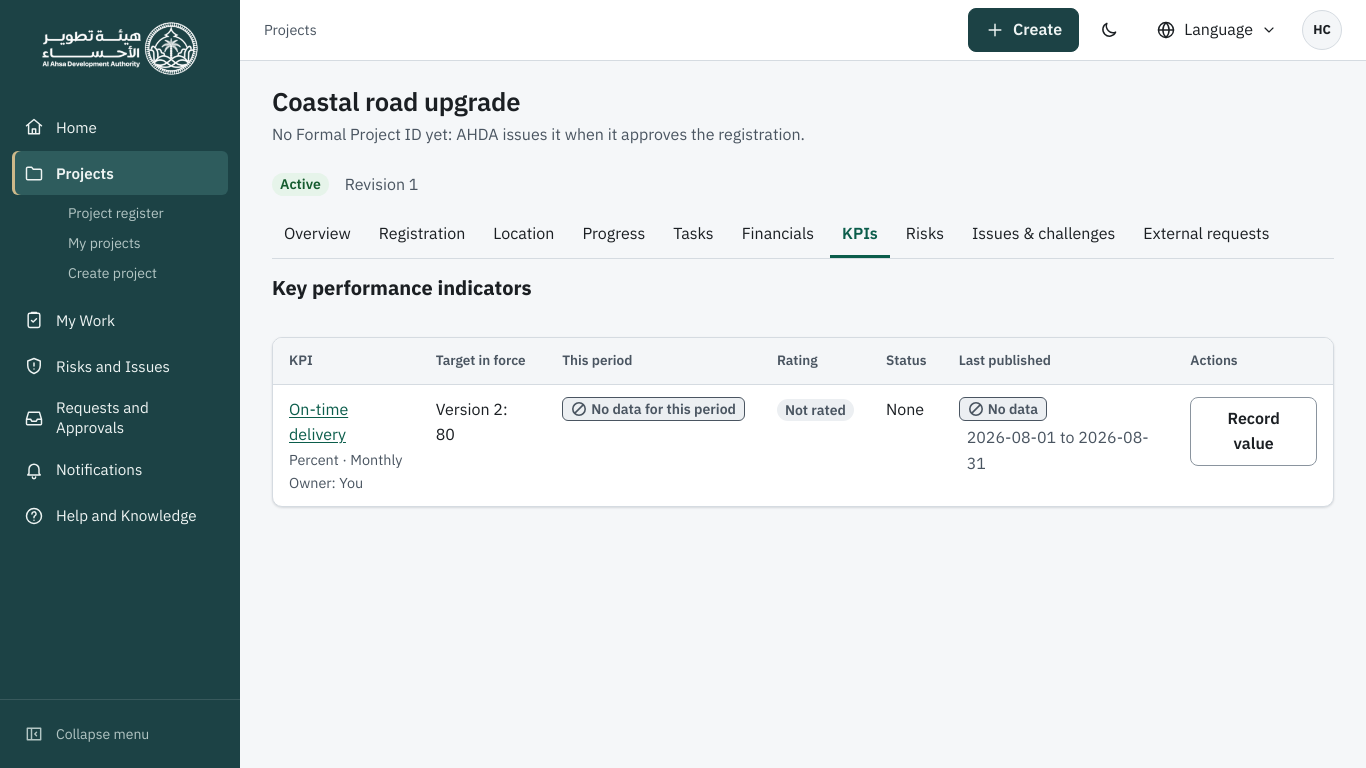
Test: MOD-024 Update KPI Value and publication › a new value is pinned to the target in force; "Not applicable" sends null for this month, then submits
The image size is (1366, 768).
Step 1. Click the button "Record value" → [1254, 431], box [1190,397,1317,466]
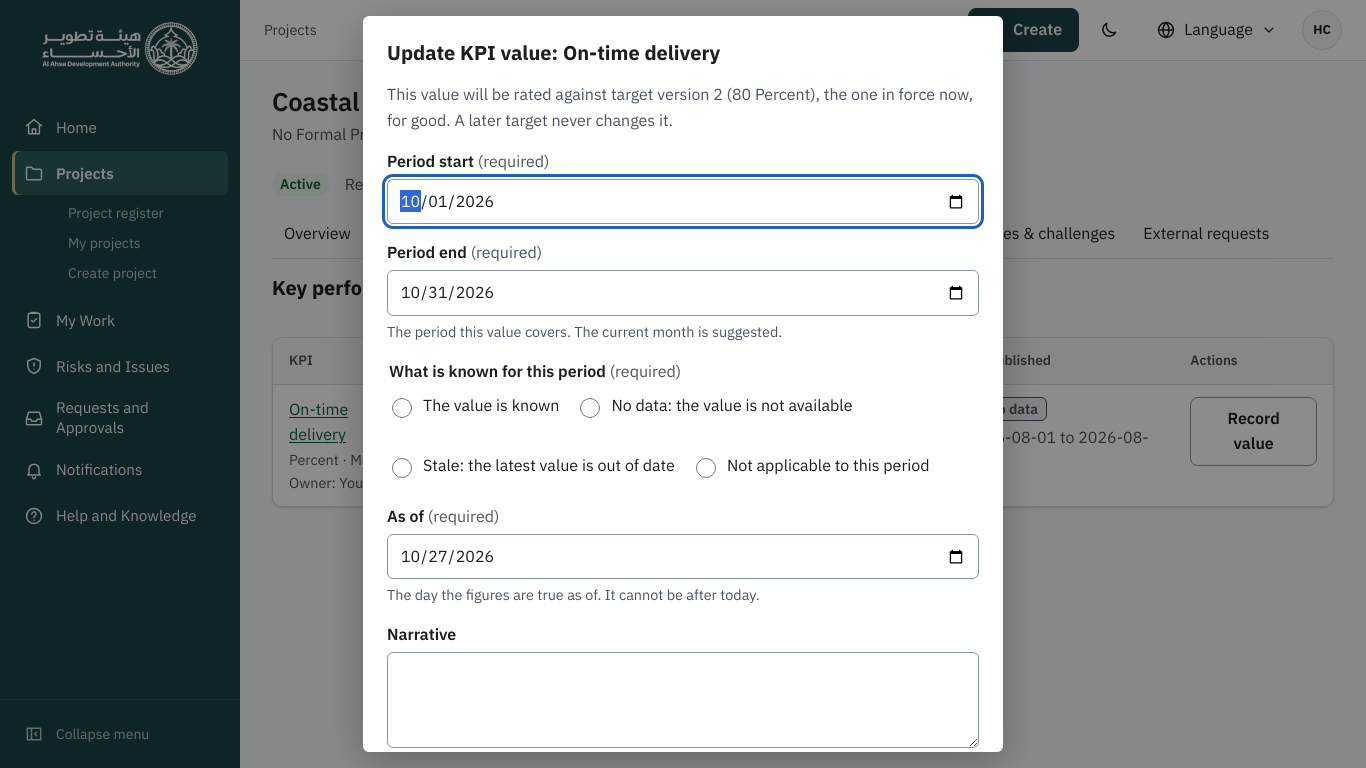
Step 2. Click the radio button labelled "Not applicable to this period" → [706, 468], box [696,458,716,478]
(page scrolled)
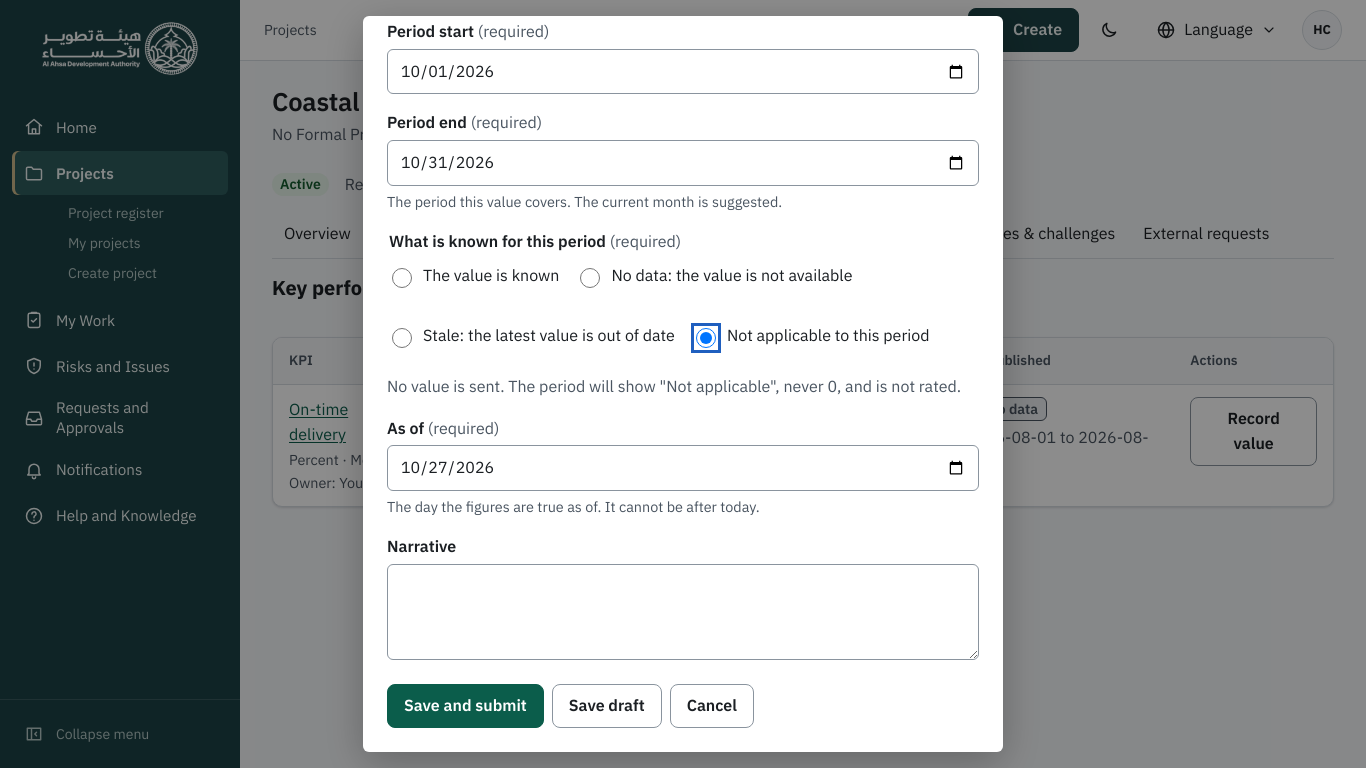
Step 3. Click the button "Save and submit" → [465, 706], box [387,684,544,728]
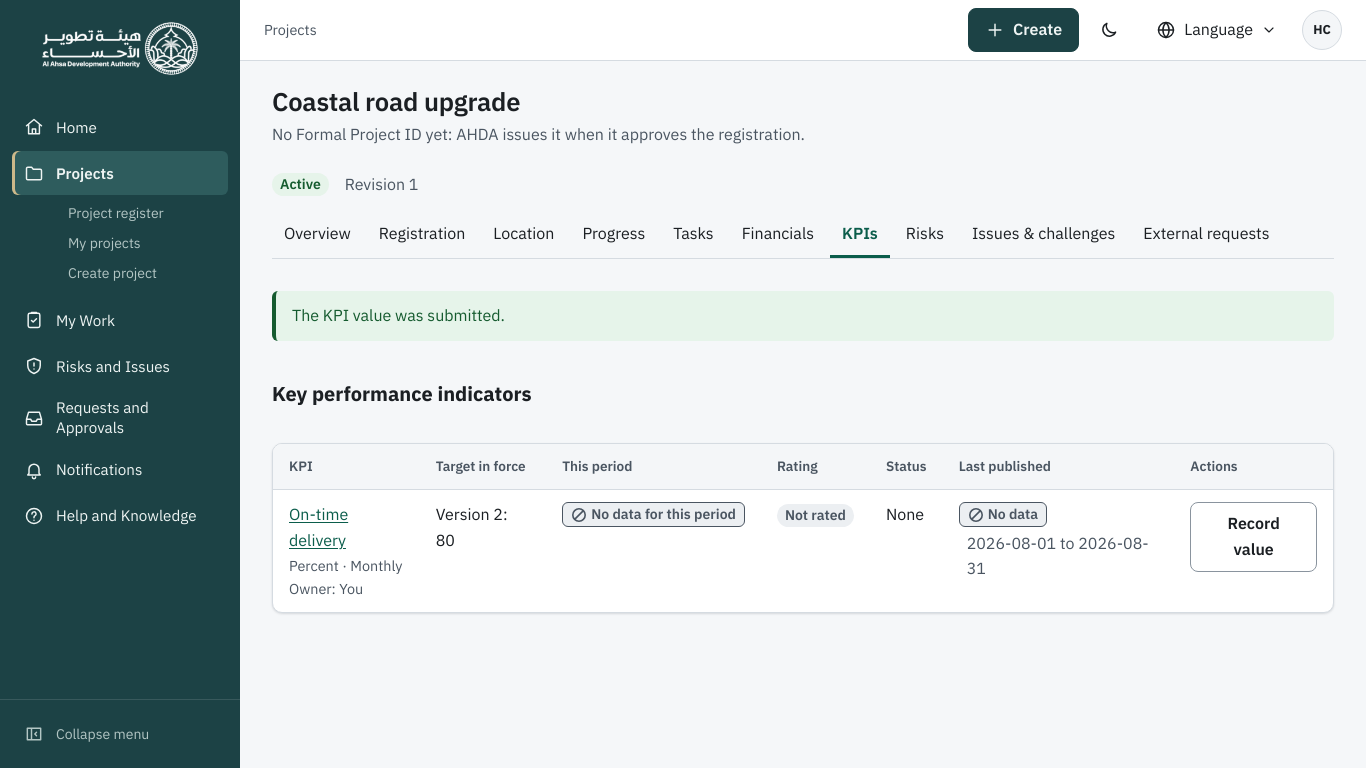
Expected: the text "The KPI value was submitted." is shown, [272,291,1334,341]
